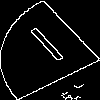I: (25, 25, 77, 71)
